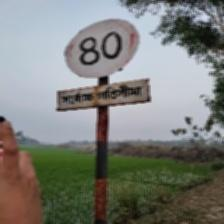Speed-limit: (58, 16, 147, 111)
